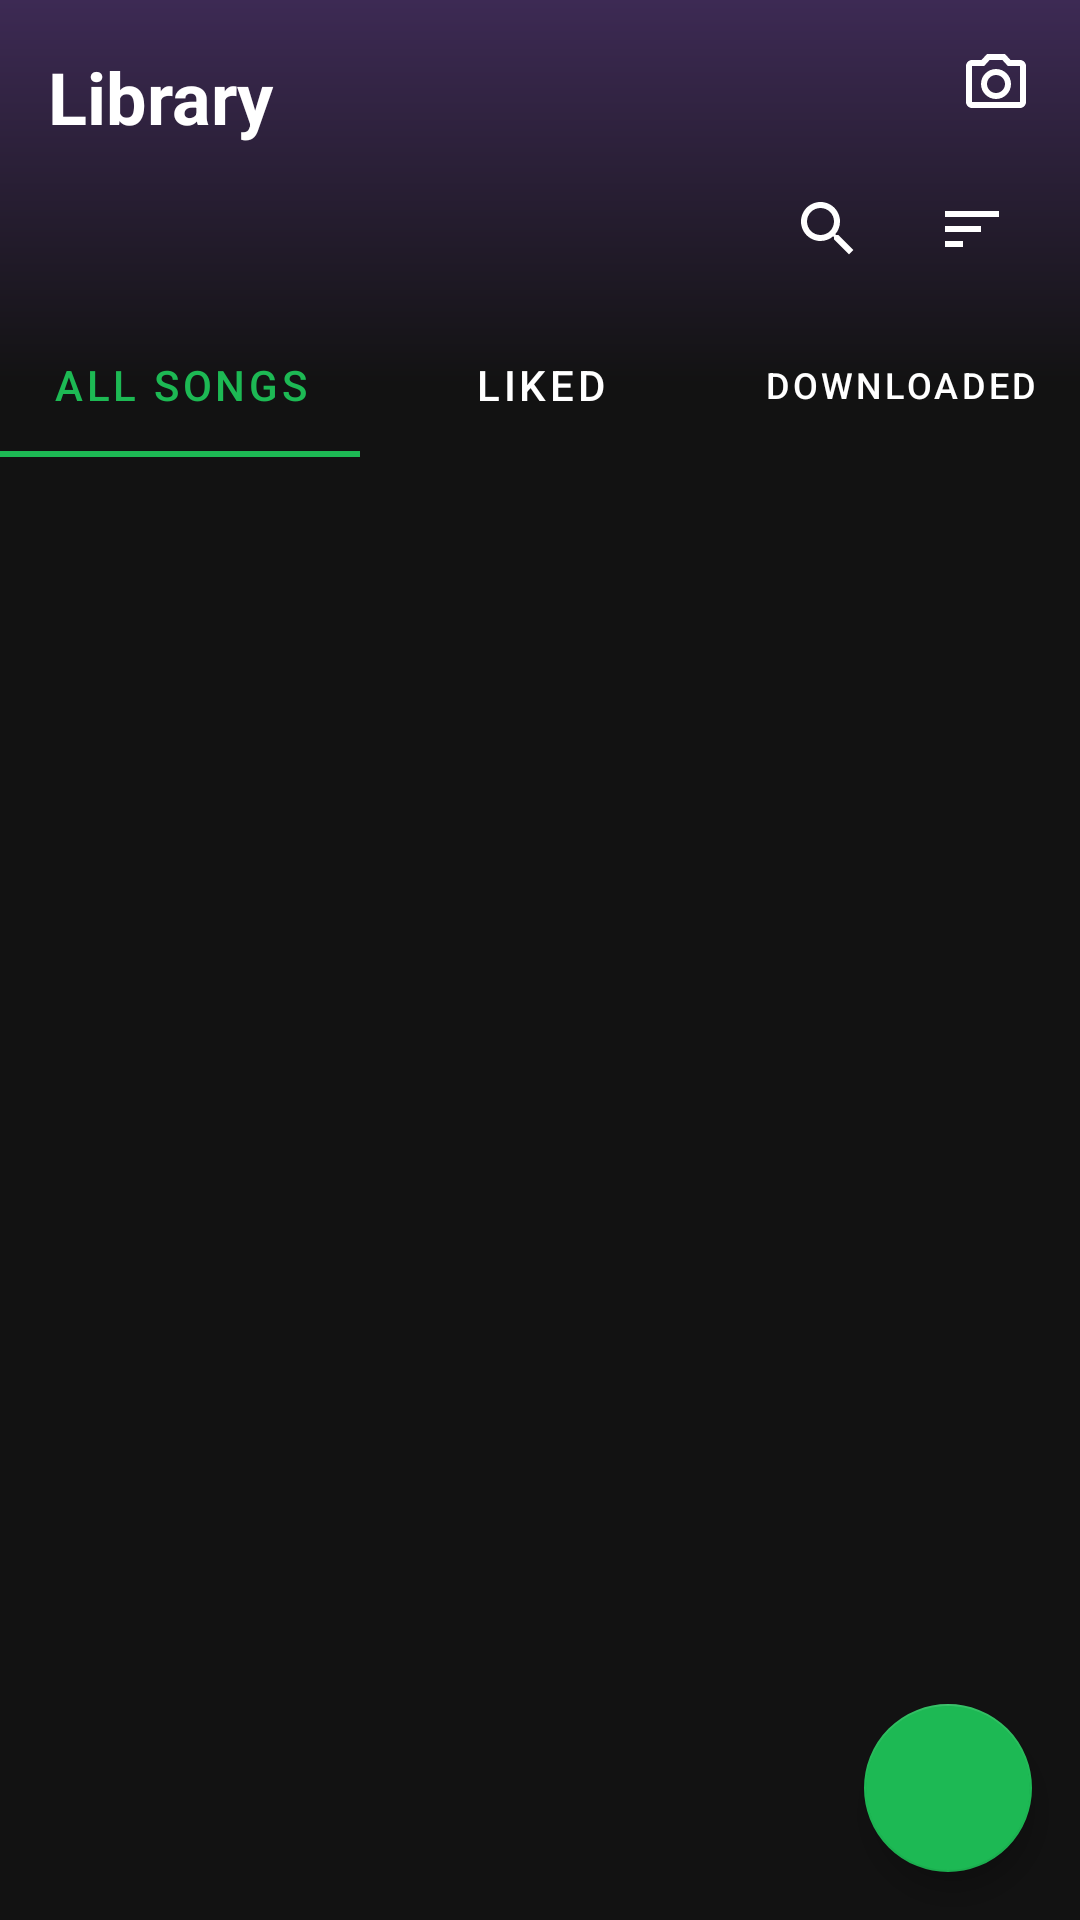

Locate icon controls on the screen. Image size 1080x1920, boxes as box=[x1, y1, x2, y2].
camera: box=[966, 54, 1026, 108]
